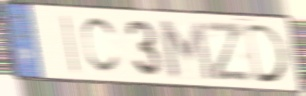3: (125, 19, 164, 78)
C: (80, 15, 122, 77)
D: (244, 22, 292, 85)
I: (61, 13, 81, 76)
M: (155, 17, 216, 83)
Z: (202, 20, 254, 84)
